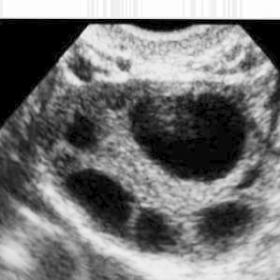PCOS: (128, 91, 250, 181), (64, 166, 133, 236), (197, 199, 251, 244), (130, 208, 185, 252), (63, 110, 103, 153), (233, 158, 266, 194)
